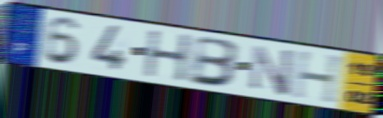4: (90, 24, 128, 73)
6: (42, 15, 82, 67)
B: (188, 34, 242, 89)
H: (290, 49, 348, 106), (143, 29, 194, 84)
N: (249, 43, 297, 99)
